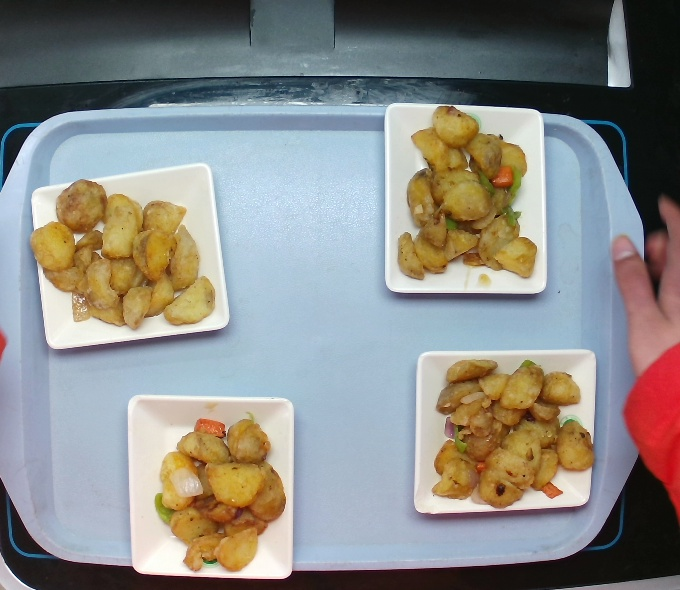wcq-TuDouZai: (30, 168, 213, 337), (388, 112, 536, 283), (148, 402, 292, 577), (432, 361, 585, 511)
